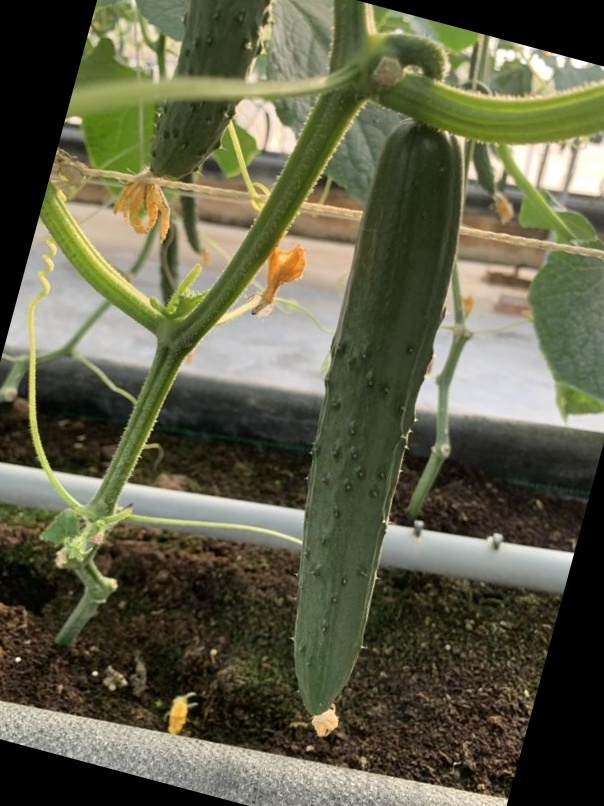mature: (280, 126, 468, 744)
